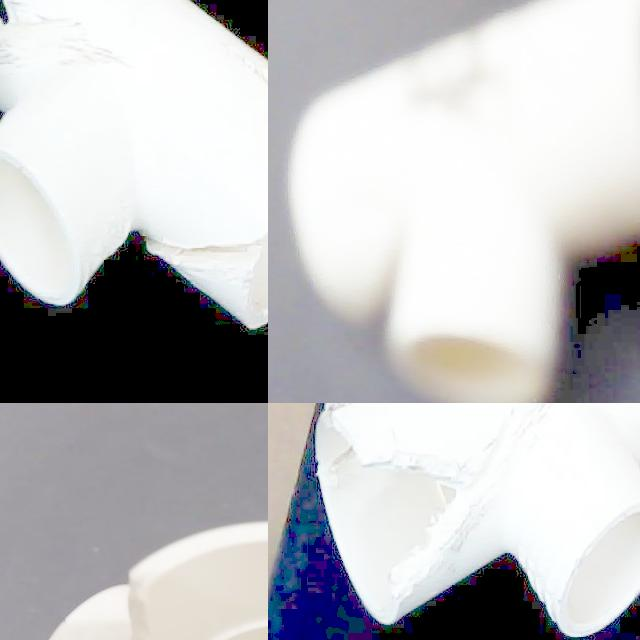Defective: (351, 423, 501, 610), (319, 403, 472, 517), (136, 204, 268, 292), (0, 0, 116, 100), (213, 21, 268, 192), (126, 579, 168, 640)
T Joint: (315, 403, 640, 640)
